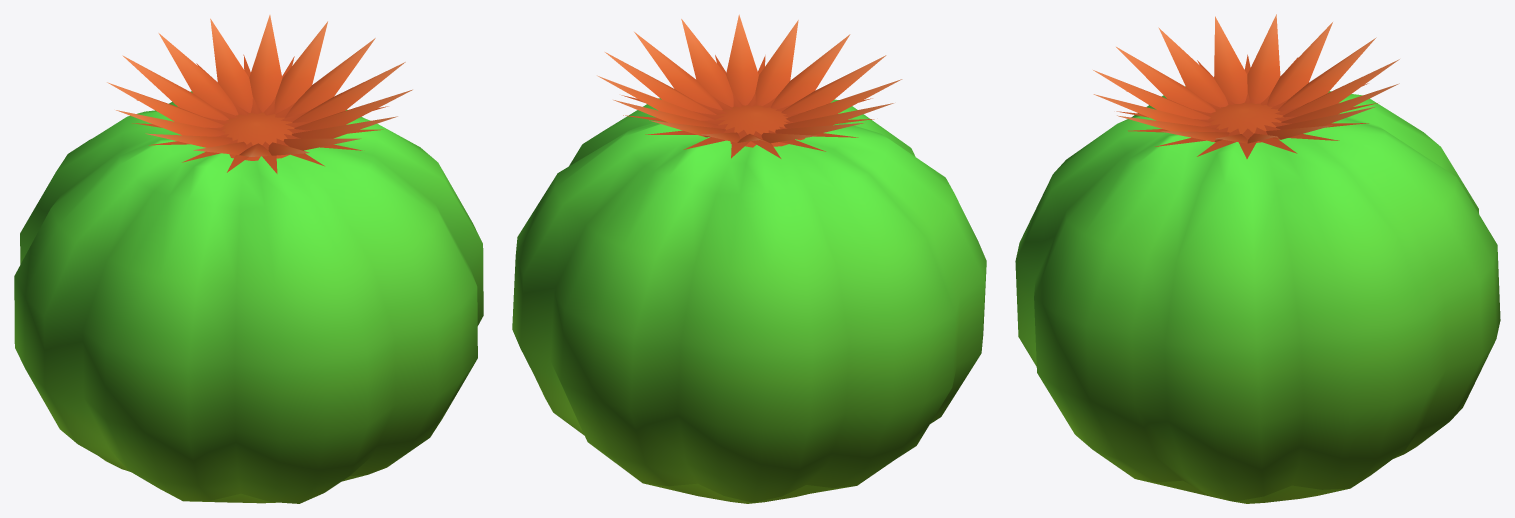
The model's file is cactus_flowers.fbx.
3 renders of one model, left to right at view 1: azimuth 30°, elevation 25°; view 2: azimuth 150°, elevation 25°; view 3: azimuth 270°, elevation 25°, orthographic. The views are drawn at different scales.
Visible parts, largest first — view 1: Cactus_flowers; view 2: Cactus_flowers; view 3: Cactus_flowers.
Part boxes in pixels (x1,y1,x2,y2): Cactus_flowers: [14, 15, 483, 503]; Cactus_flowers: [512, 14, 986, 503]; Cactus_flowers: [1015, 14, 1500, 503].
Size of the model in its own units: 76.27 by 69.77 by 76.35.
